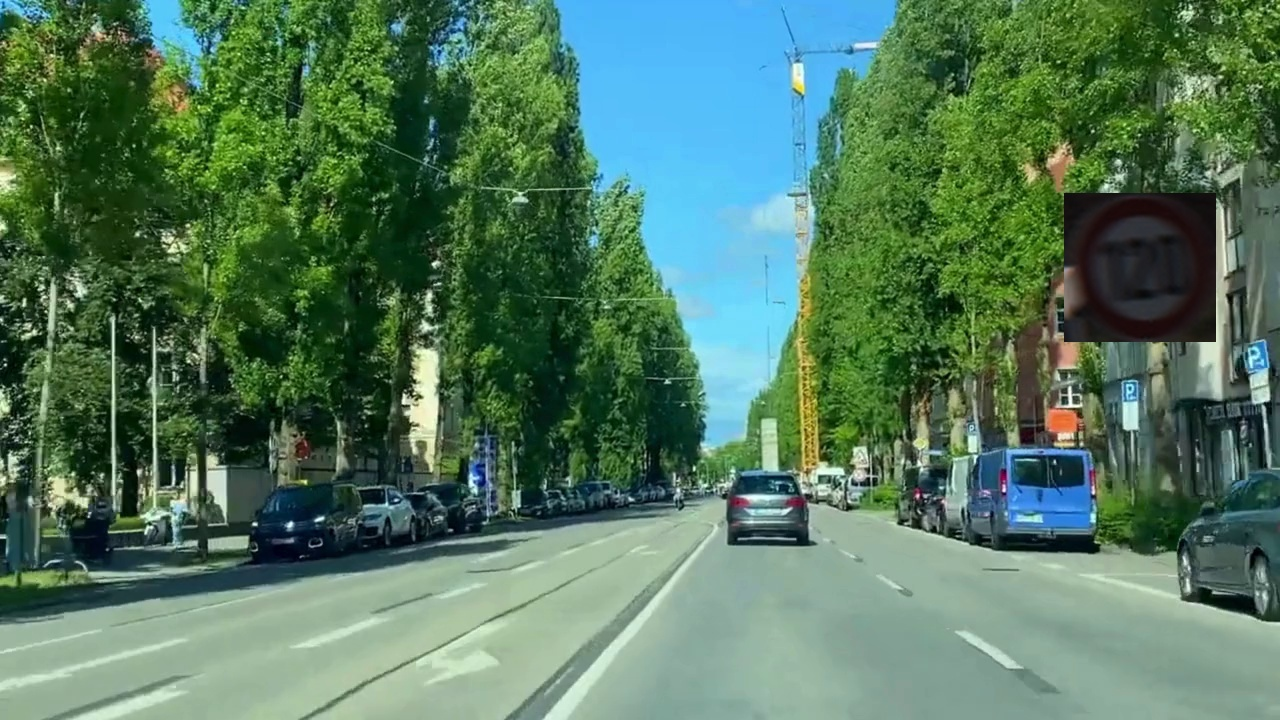Speed 120: (1064, 193, 1216, 342)
